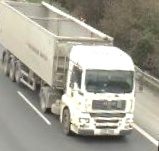truck: (0, 0, 143, 142)
